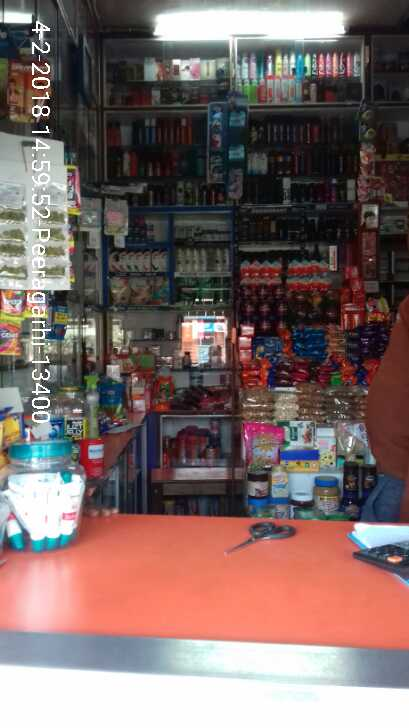vicks: (124, 219, 157, 246)
